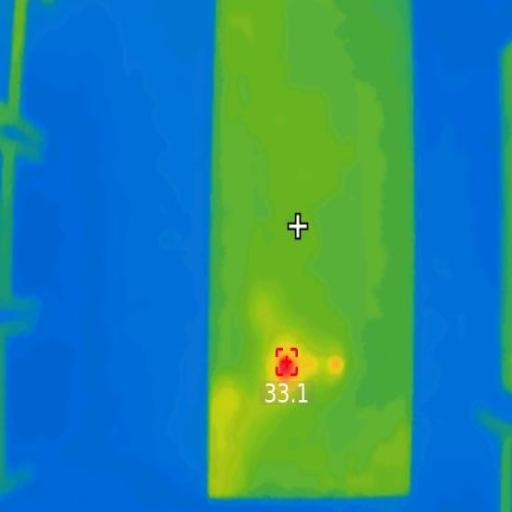hotspot: (276, 346, 300, 388)
